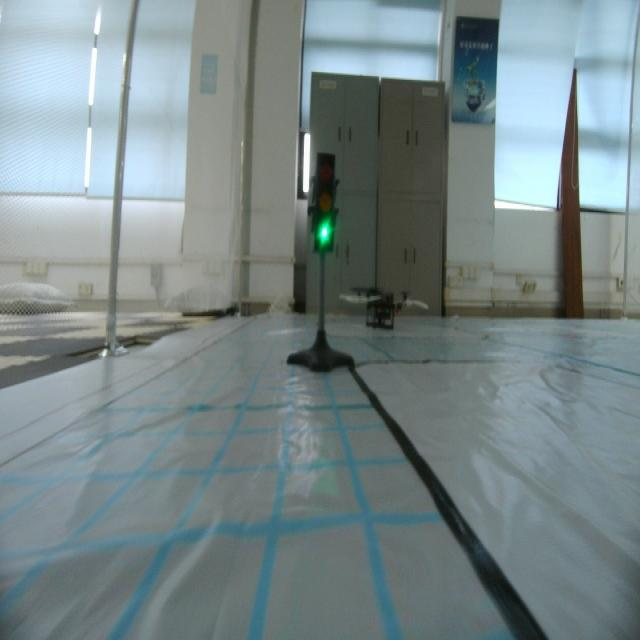green: (310, 153, 342, 254)
